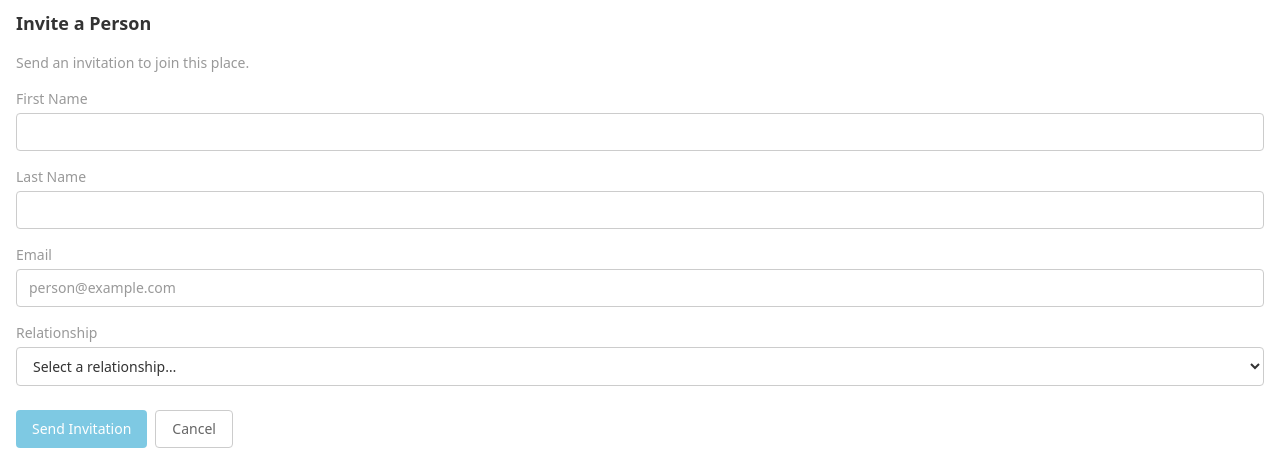
Test: AddPersonPanel – interactions › enables Send Invitation when email is entered
The width and height of the screenshot is (1280, 465).
In the field with placeholder "person@example.com": (640, 288) [16,269,1264,307], type "jane@test.com"
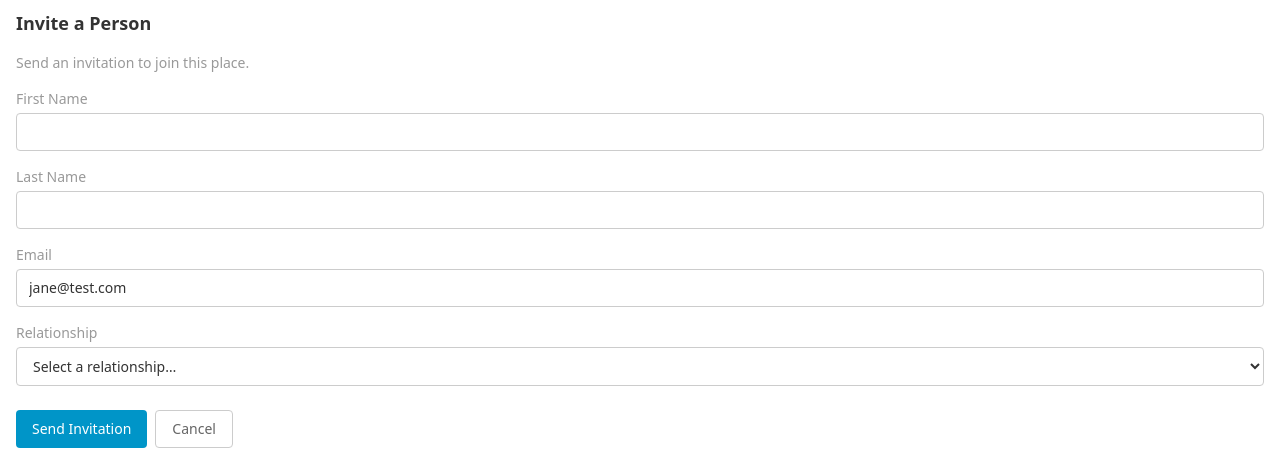
Check: the button "Send Invitation" is enabled, box [16,410,147,448]
